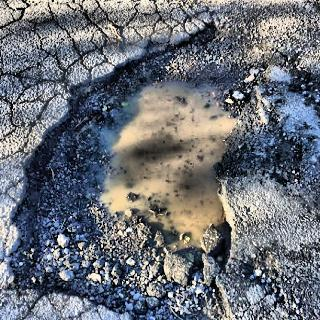alligator-crack: (0, 2, 33, 198), (36, 4, 220, 17)
pothole: (36, 22, 276, 306)
